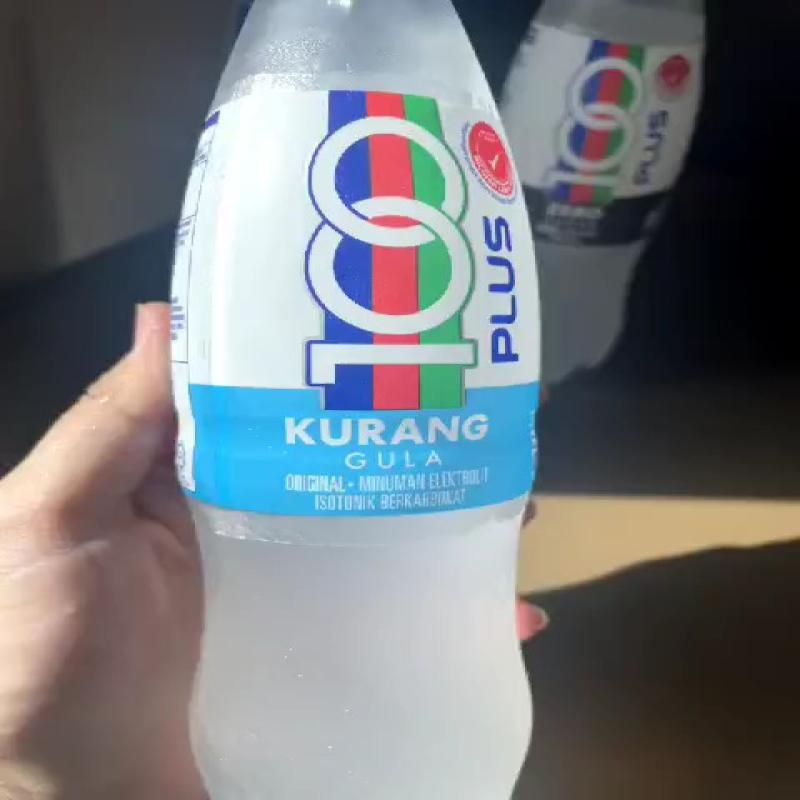botella: (171, 0, 529, 800), (497, 0, 711, 376)
